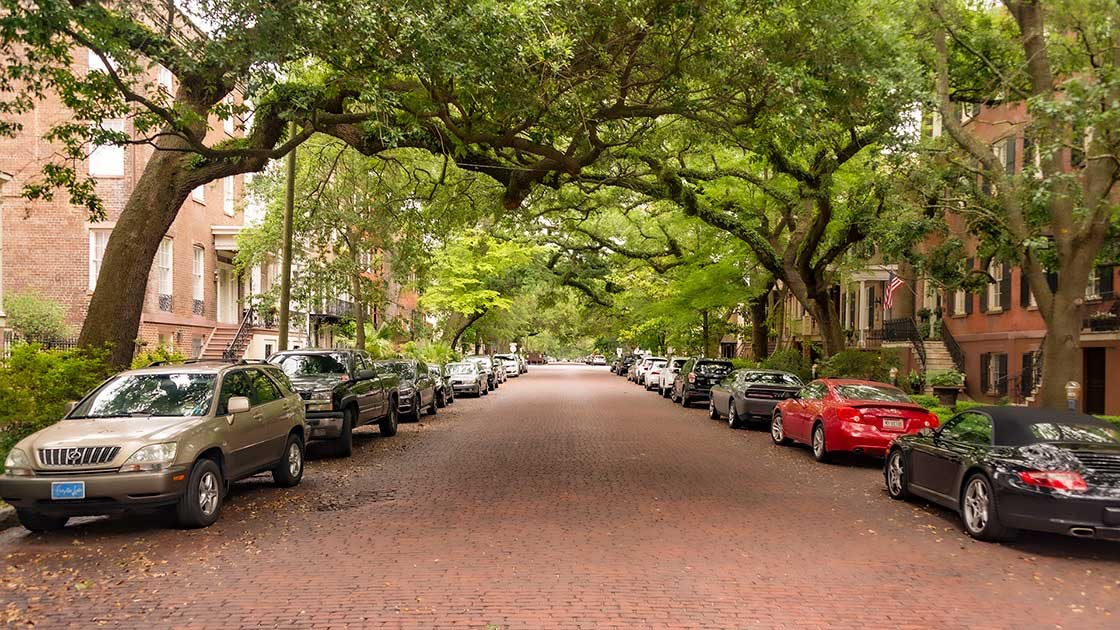Car: (27, 356, 293, 531), (887, 394, 1120, 551), (756, 367, 932, 478)
Tree: (574, 1, 915, 369), (1, 1, 354, 346), (881, 1, 1109, 387)
